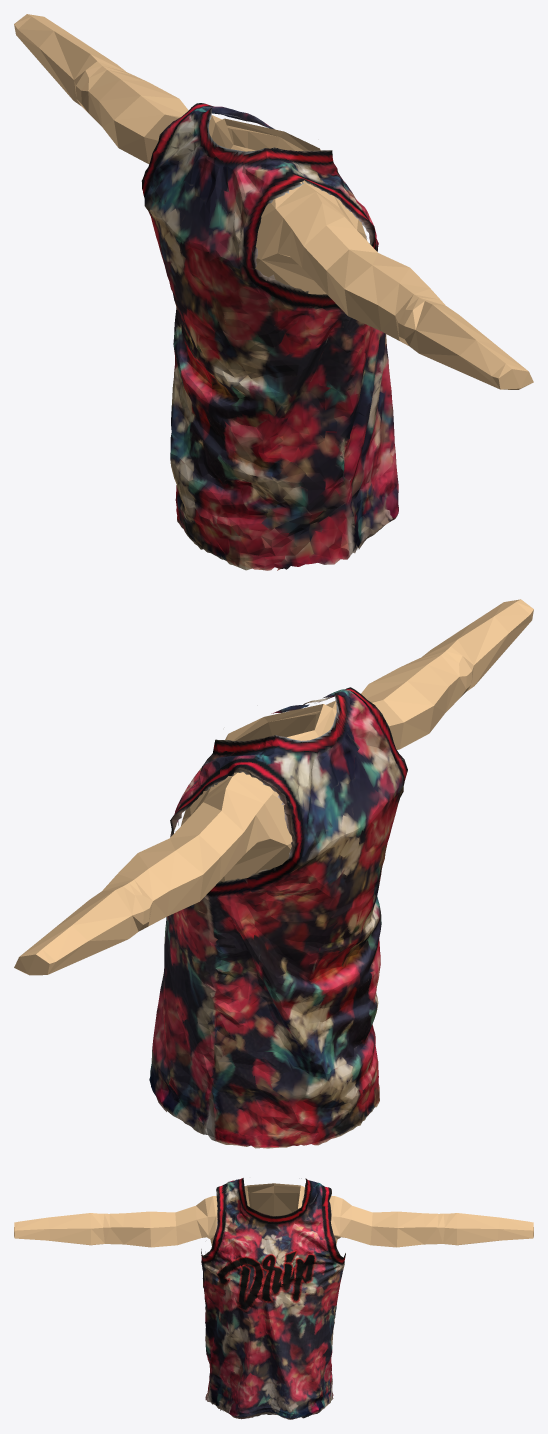
The model's file is Driptshirt.glb.
3 renders of one model, top to bottom at view 1: azimuth 30°, elevation 25°; view 2: azimuth 150°, elevation 25°; view 3: azimuth 270°, elevation 25°, orthographic. The views are drawn at different scales.
Visible parts, largest first — view 1: Torso; view 2: Torso; view 3: Torso.
Part boxes in pixels (box(x1,y1,x2,y2)): Torso: box(14, 14, 533, 570); Torso: box(14, 599, 533, 1148); Torso: box(14, 1177, 533, 1419).
Bounding box in the file's own units: 0.4569 × 0.9046 × 1.96.
Materials: 2 (1 with a texture image).
